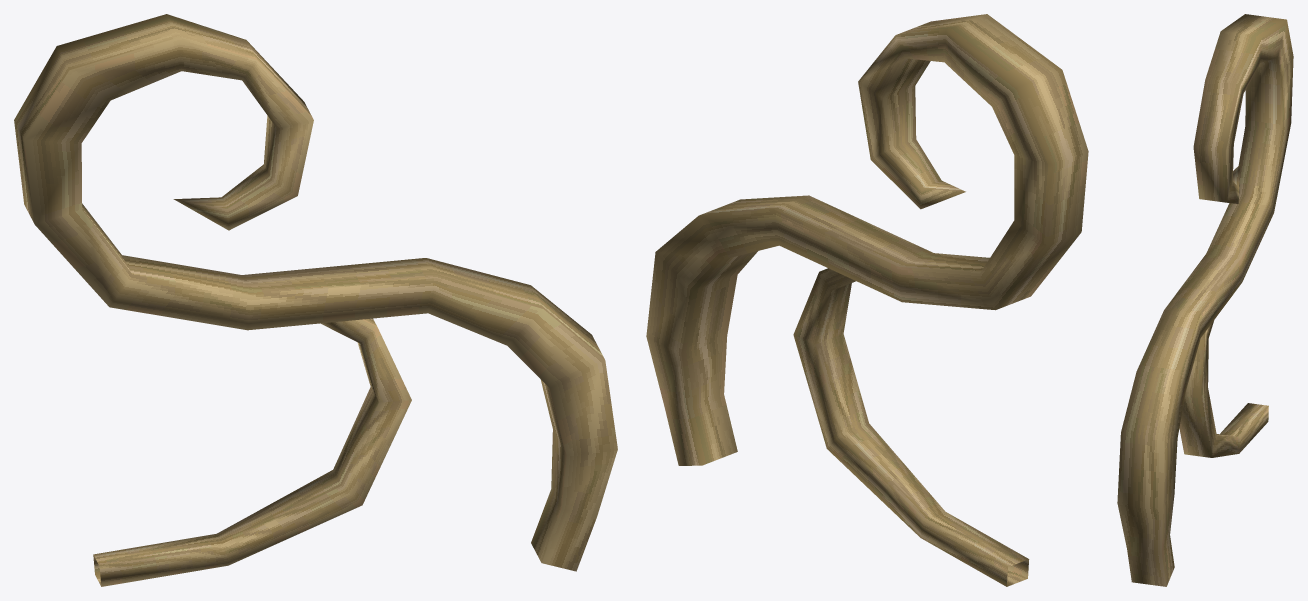
The model's file is EKH_BARRELROOM_PS_JA1_LOFT01.fbx.
3 views of the same model, side by side, from view 1: azimuth 30°, elevation 25°; view 2: azimuth 150°, elevation 25°; view 3: azimuth 270°, elevation 25° (orthographic). The views are drawn at different scales.
Visible parts, largest first — view 1: EKH_BARRELROOM_PS_JA1_LOFT01; view 2: EKH_BARRELROOM_PS_JA1_LOFT01; view 3: EKH_BARRELROOM_PS_JA1_LOFT01.
Part boxes in pixels (x1,y1,x2,y2): EKH_BARRELROOM_PS_JA1_LOFT01: [14, 14, 617, 586]; EKH_BARRELROOM_PS_JA1_LOFT01: [646, 14, 1088, 586]; EKH_BARRELROOM_PS_JA1_LOFT01: [1117, 14, 1293, 586].
Size of the model in its own units: 10739 by 11415 by 4259.
Materials: 1 (1 with a texture image).
